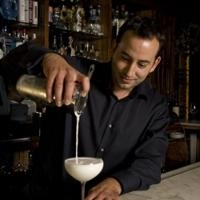person without safety: (100, 15, 175, 163)
